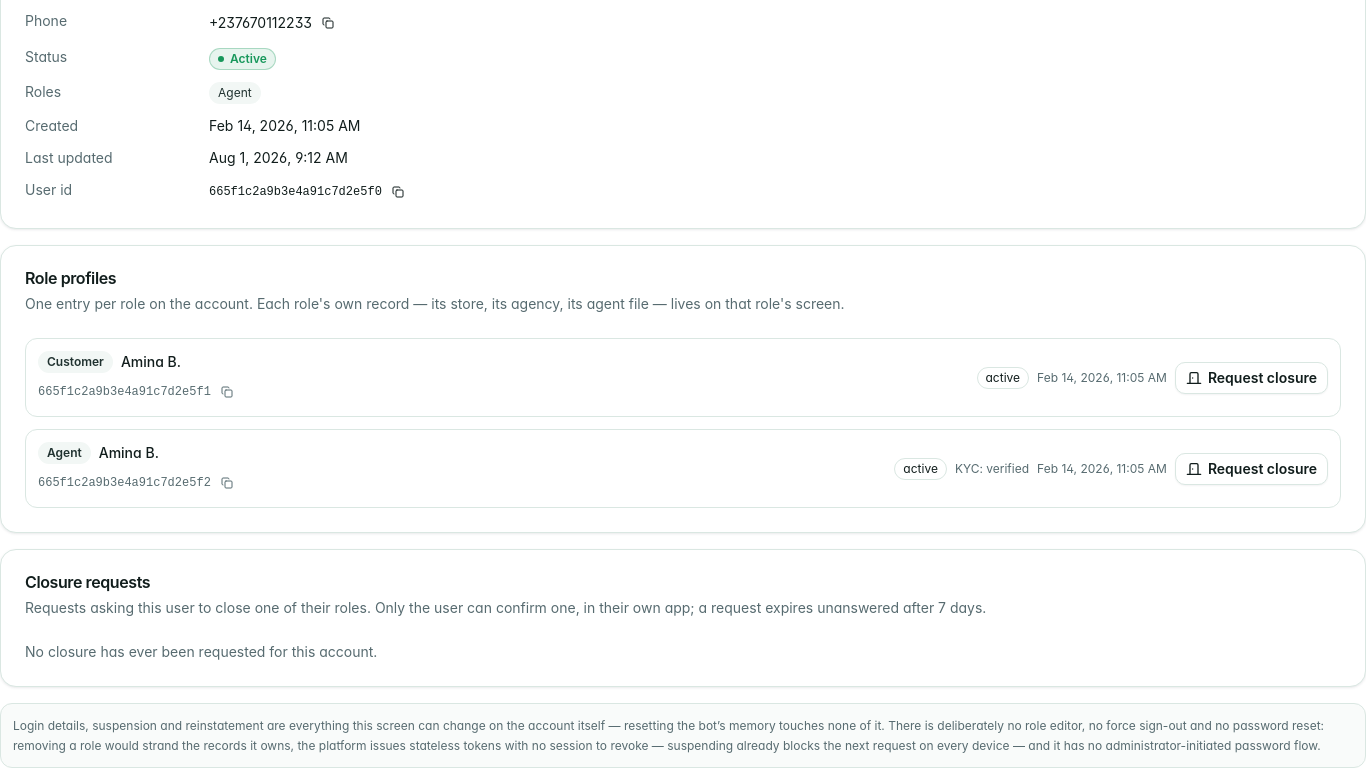
requesting › says when the role is the last one, so the whole account would close
(page scrolled)
Step 1. Click the button "Request closure" in the row of "verified" → (1251, 468), box [1175,452,1328,484]
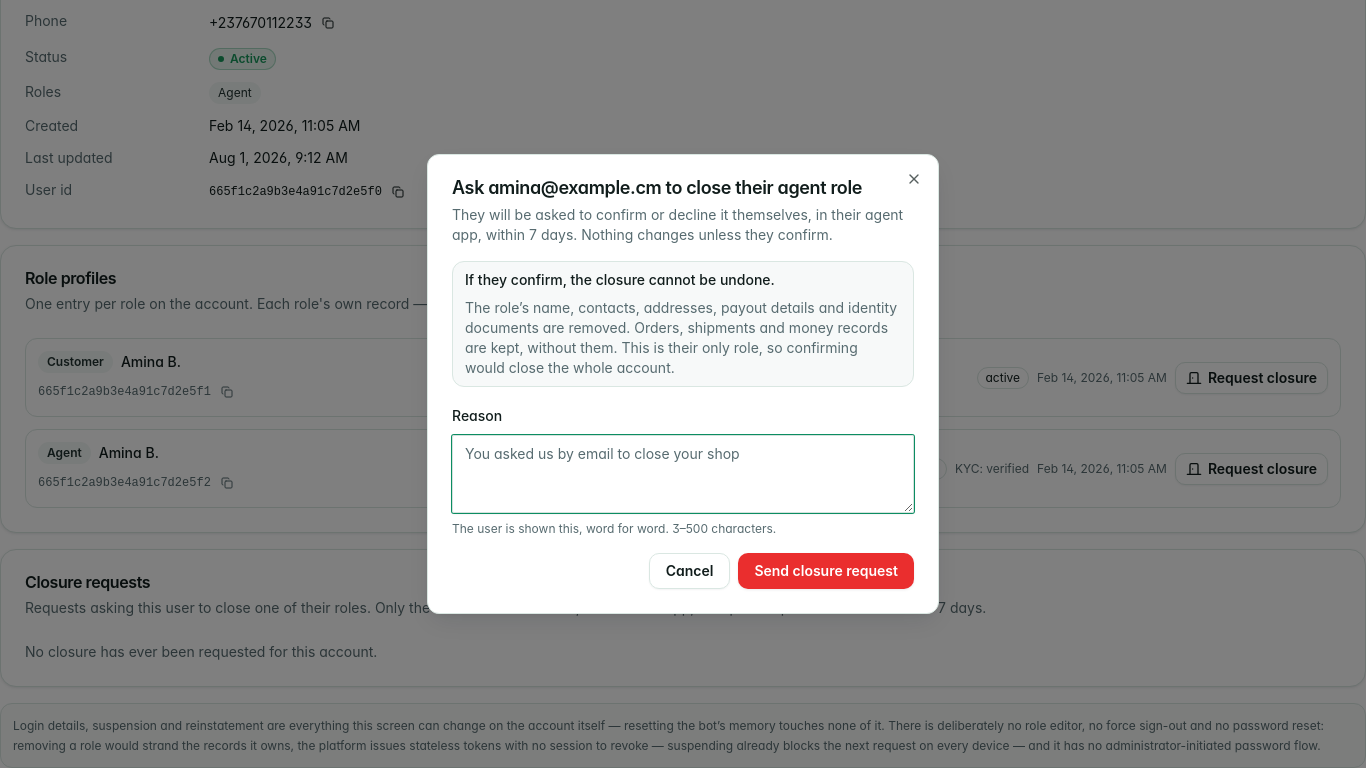
Expected: the text "only role, so confirming would close the whole account" is shown, [465,339,858,376]
